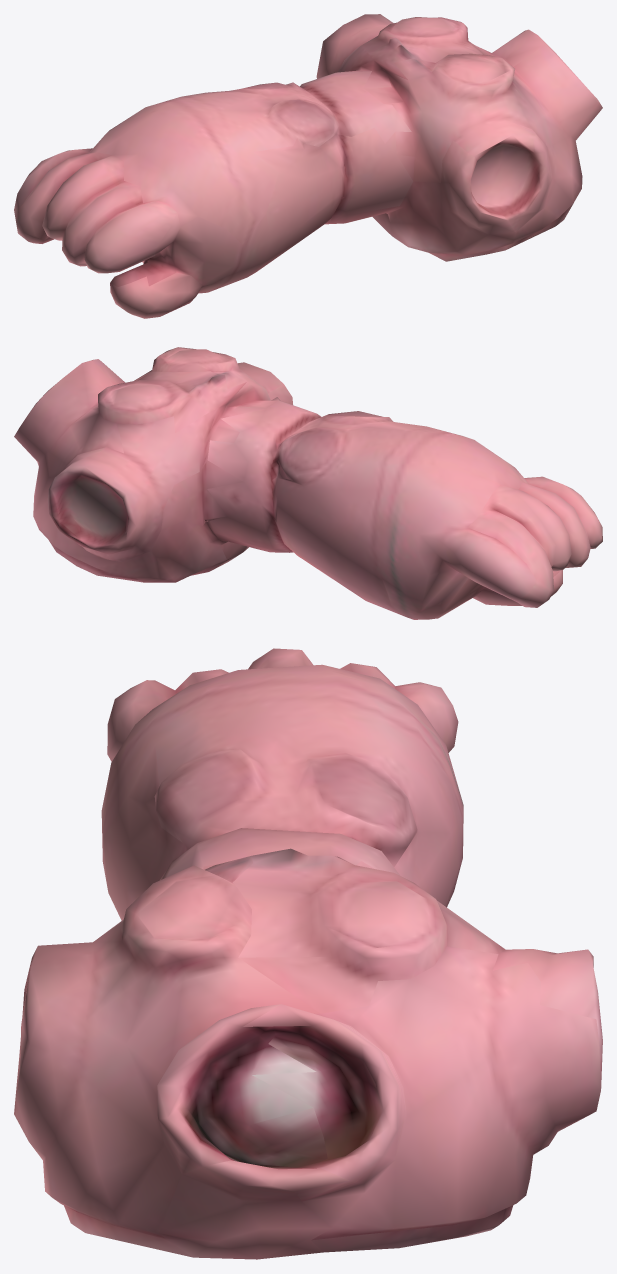
File: arm1_chirimecha.glb
3 renders of one model, top to bottom at view 1: azimuth 30°, elevation 25°; view 2: azimuth 150°, elevation 25°; view 3: azimuth 270°, elevation 25°, orthographic. The views are drawn at different scales.
Parts seen in each view (by area): view 1: arm 1; view 2: arm 1; view 3: arm 1.
Part boxes in pixels (<box>): arm 1: <box>14,14,602,318</box>; arm 1: <box>14,347,602,619</box>; arm 1: <box>14,648,602,1259</box>.
Size of the model in its own units: 2.04 by 0.6712 by 1.04.
1 material, 1 textured.
